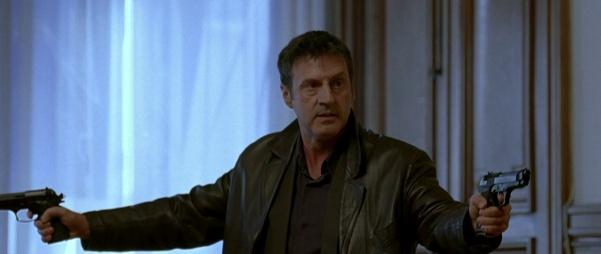Gun: (475, 168, 533, 236), (0, 188, 68, 245)
